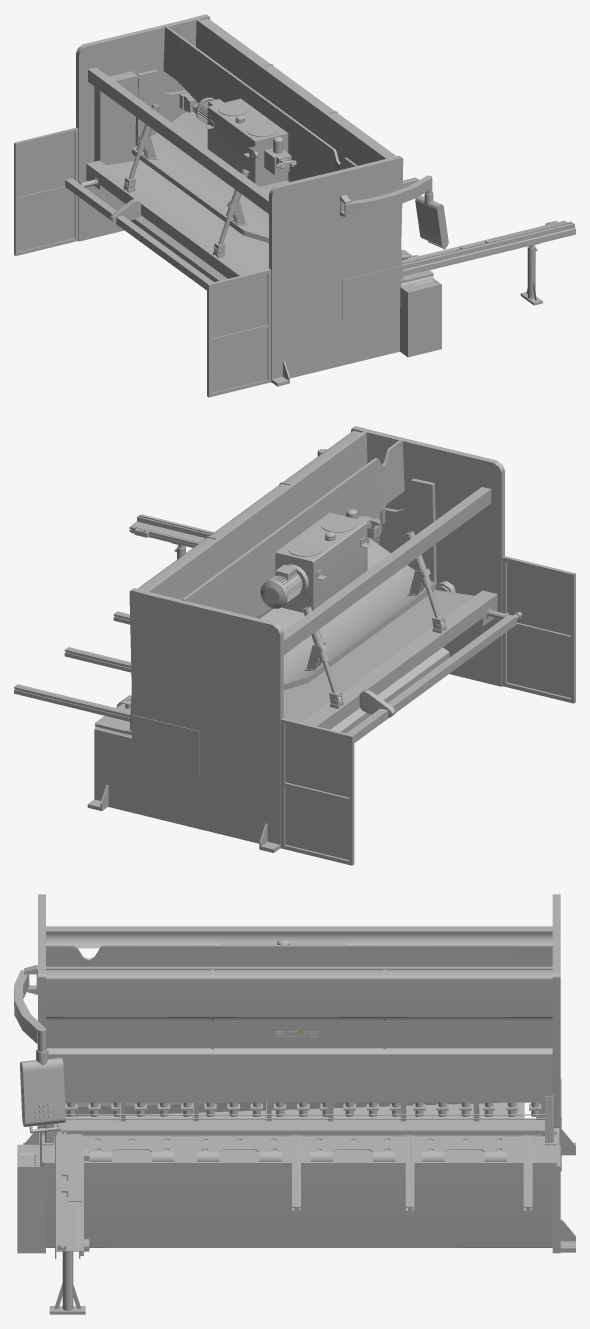
The picture shows the model from 3 angles, top to bottom: view 1: azimuth 30°, elevation 25°; view 2: azimuth 150°, elevation 25°; view 3: azimuth 270°, elevation 25°; orthographic projection. The views are drawn at different scales.
Visible parts, largest first — view 1: GV_1642_RWall1, GV_1642_BackTopStruct, GV_1642_BackStruct, GV_1642_LWall, GV_1642_DefenseGrid2, GV_1642_DefenseGrid, GV_1642_BackTable, GV_1642_BackStruct1, GV_1642_TopBox, GV_1642_BackBar, GV_1642_FrontStruct, pasted__ArmSupport (+7 smaller); view 2: GV_1642_LWall, GV_1642_BackTopStruct, GV_1642_RWall1, GV_1642_BackStruct, GV_1642_DefenseGrid, GV_1642_DefenseGrid2, GV_1642_BackTable, GV_1642_TopBox, GV_1642_BackBar, GV_1642_Metalbar2, GV_1642_BackStruct1, GV_1642_FrontBars (+6 smaller); view 3: GV_1642_FrontTOPPlate1, GV_1642_Base, GV_1642_FrontPlate, GV_1642_BackTopStruct, GV_1642_BackBar, GV_1642_Table, GB_1642_FrontOpen, GV_1642_Tables, GV_1642_FrontStruct, GV_1642_LWall, GV_1642_Punction21, GV_1642_PC (+10 smaller).
Boxes of the visible parts, <box> form: GV_1642_RWall1: <box>269,155,433,386</box>; GV_1642_BackTopStruct: <box>163,19,388,181</box>; GV_1642_BackStruct: <box>79,160,268,278</box>; GV_1642_LWall: <box>76,14,210,241</box>; GV_1642_DefenseGrid2: <box>207,268,271,397</box>; GV_1642_DefenseGrid: <box>14,127,78,255</box>; GV_1642_BackTable: <box>132,111,288,242</box>; GV_1642_BackStruct1: <box>94,69,291,182</box>; GV_1642_TopBox: <box>205,98,288,186</box>; GV_1642_BackBar: <box>88,67,268,213</box>; GV_1642_FrontStruct: <box>402,220,575,305</box>; pasted__ArmSupport: <box>400,278,441,357</box>; GV_1642_LWall: <box>87,588,283,852</box>; GV_1642_BackTopStruct: <box>145,431,404,617</box>; GV_1642_RWall1: <box>351,426,504,686</box>; GV_1642_BackStruct: <box>283,590,509,729</box>; GV_1642_DefenseGrid: <box>280,718,354,865</box>; GV_1642_DefenseGrid2: <box>502,556,575,703</box>; GV_1642_BackTable: <box>260,538,435,690</box>; GV_1642_TopBox: <box>275,512,382,612</box>; GV_1642_BackBar: <box>283,487,491,654</box>; GV_1642_Metalbar2: <box>346,611,522,742</box>; GV_1642_BackStruct1: <box>255,478,436,618</box>; GV_1642_FrontBars: <box>14,611,131,721</box>; GV_1642_FrontTOPPlate1: <box>46,969,552,1049</box>; GV_1642_Base: <box>46,1168,552,1247</box>; GV_1642_FrontPlate: <box>46,1048,552,1102</box>; GV_1642_BackTopStruct: <box>45,945,553,970</box>; GV_1642_BackBar: <box>46,926,552,948</box>; GV_1642_Table: <box>42,1119,556,1167</box>; GB_1642_FrontOpen: <box>54,1102,544,1136</box>; GV_1642_Tables: <box>89,1136,506,1161</box>; GV_1642_FrontStruct: <box>49,1132,89,1314</box>; GV_1642_LWall: <box>552,894,575,1253</box>; GV_1642_Punction21: <box>65,1102,541,1116</box>; GV_1642_PC: <box>20,1057,65,1133</box>.
Bounding box in the file's own units: 503 × 251 × 493.
